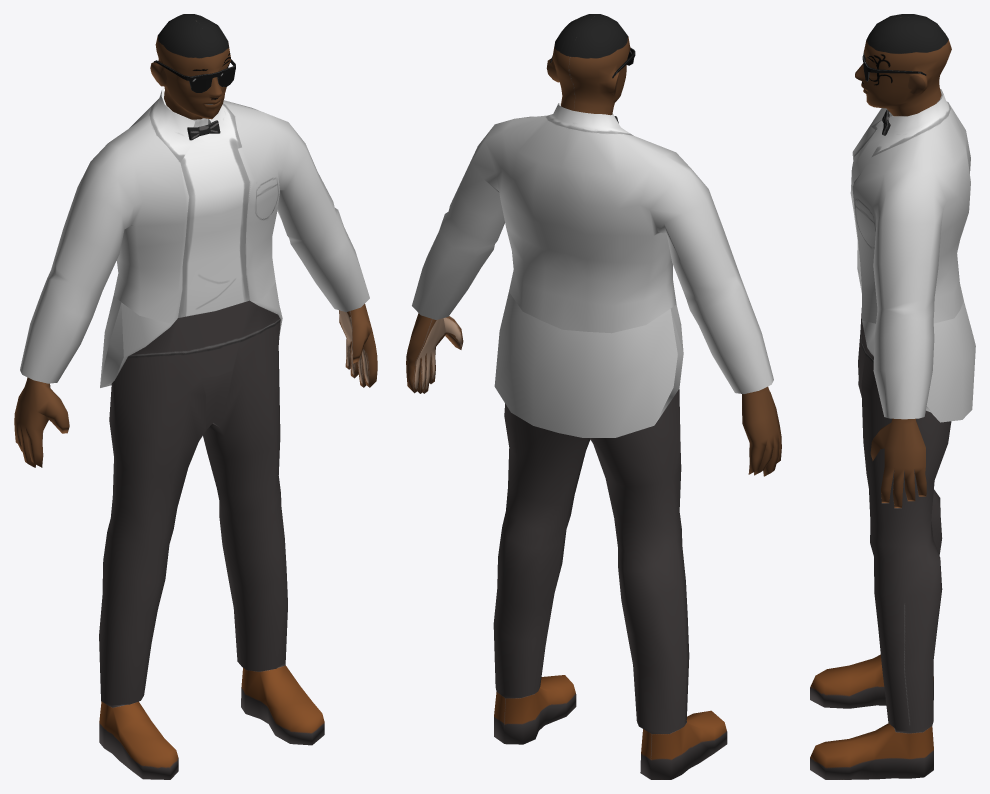
The model's file is Human.fbx.
The picture shows the model from 3 angles, left to right: view 1: azimuth 30°, elevation 25°; view 2: azimuth 150°, elevation 25°; view 3: azimuth 270°, elevation 25°; orthographic projection. The views are drawn at different scales.
Visible parts, largest first — view 1: pCube15; view 2: pCube15; view 3: pCube15.
Boxes of the visible parts, x1,y1,x2,y2 form: pCube15: (14, 14, 377, 779); pCube15: (406, 14, 781, 779); pCube15: (810, 14, 975, 779).
Bounding box in the file's own units: 65.32 × 126 × 26.45.
